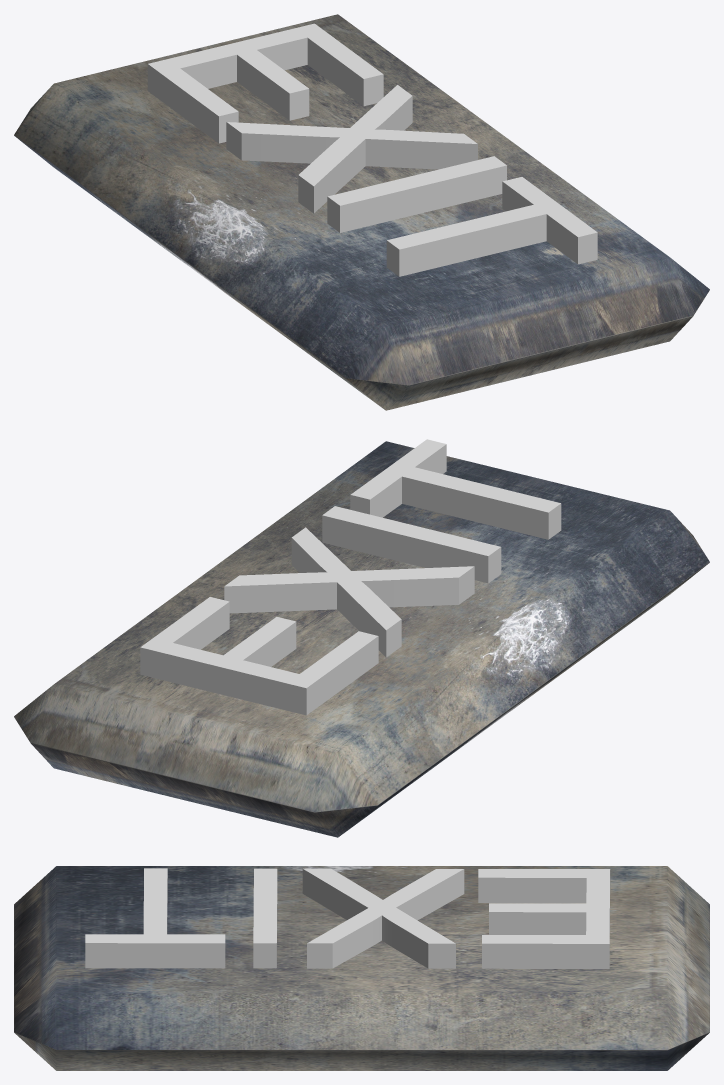
File: ExitSign.FBX
3 views of the same model, one above another, from view 1: azimuth 30°, elevation 25°; view 2: azimuth 150°, elevation 25°; view 3: azimuth 270°, elevation 25° (orthographic). The views are drawn at different scales.
Visible parts, largest first — view 1: ChamferBox001, Text001; view 2: ChamferBox001, Text001; view 3: ChamferBox001, Text001.
Part boxes in pixels (<box>): ChamferBox001: <box>14,14,709,410</box>; Text001: <box>147,23,597,276</box>; ChamferBox001: <box>14,441,709,837</box>; Text001: <box>140,439,561,715</box>; ChamferBox001: <box>14,866,709,1070</box>; Text001: <box>85,868,610,968</box>.
Size of the model in its own units: 6.09 by 1.78 by 10.96.
1 material, 1 textured.
